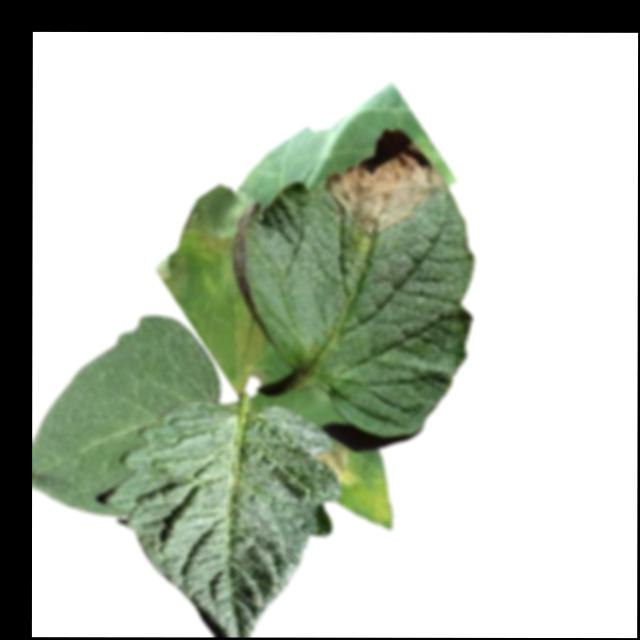Late_blight: (321, 126, 447, 237), (183, 184, 252, 281), (155, 247, 189, 296), (315, 446, 354, 484)
healthy: (104, 406, 340, 637), (33, 312, 221, 518)
